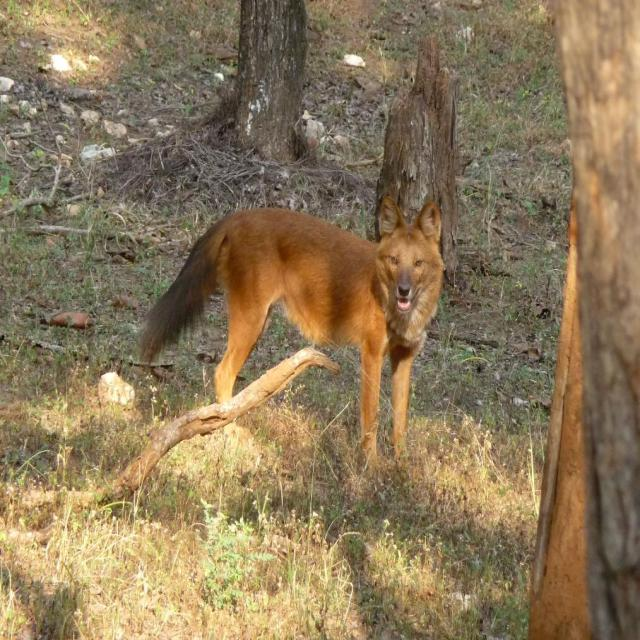fox: (131, 143, 521, 474)
